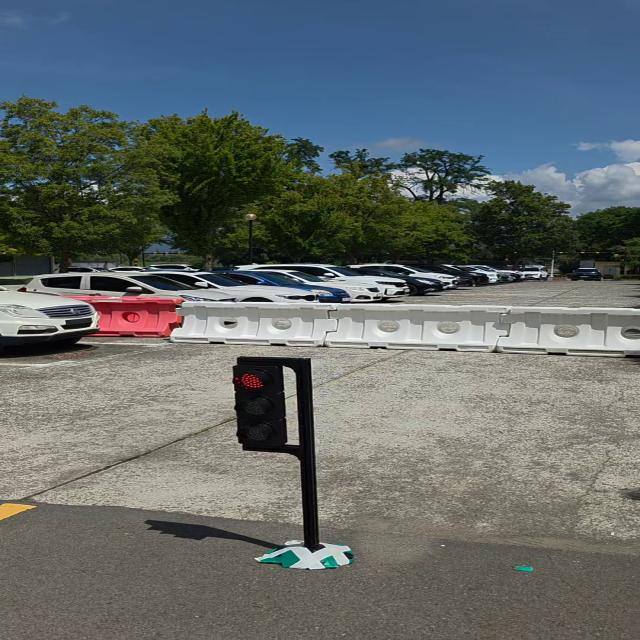red: (234, 362, 289, 450)
